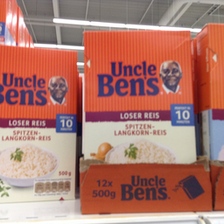rice: (83, 30, 197, 164), (1, 45, 77, 202)
